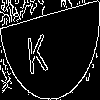K: (25, 24, 49, 76)
